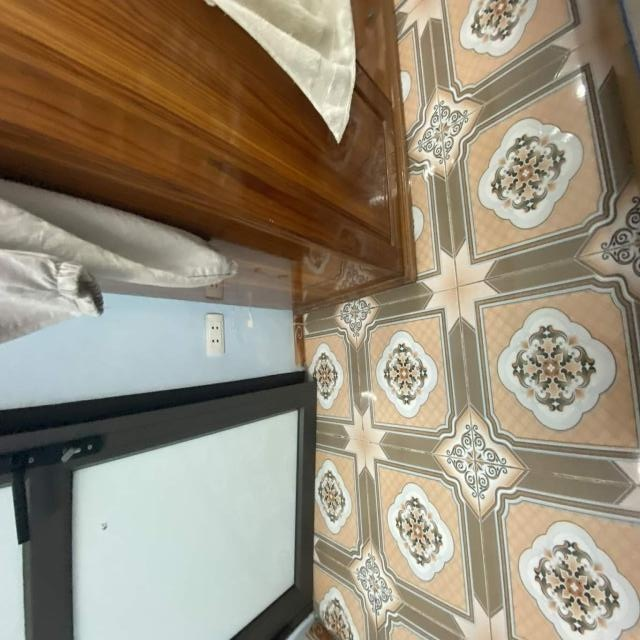outlet: (204, 313, 225, 356)
